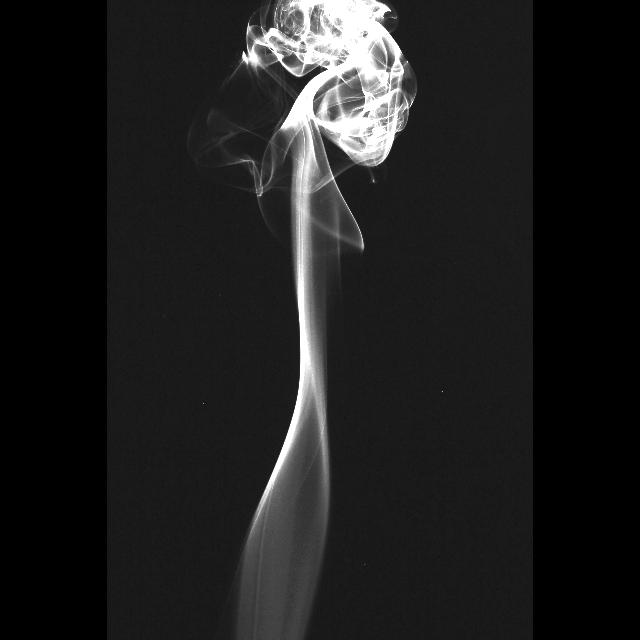smoke: (194, 0, 416, 222)
